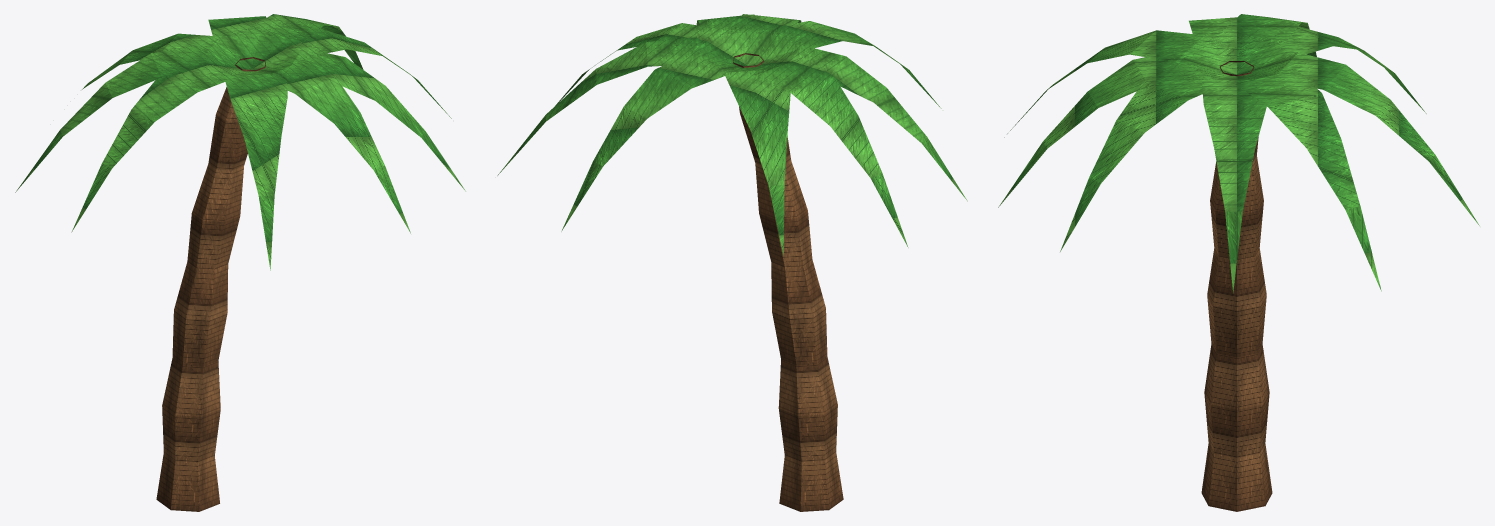
The model's file is palmera.glb.
3 renders of one model, left to right at view 1: azimuth 30°, elevation 25°; view 2: azimuth 150°, elevation 25°; view 3: azimuth 270°, elevation 25°, orthographic. The views are drawn at different scales.
Visible parts, largest first — view 1: Palmera_cuerpo; view 2: Palmera_cuerpo; view 3: Palmera_cuerpo.
Boxes of the visible parts, box(x1,y1,x2,y2) form: Palmera_cuerpo: box(15, 14, 465, 511); Palmera_cuerpo: box(497, 14, 967, 511); Palmera_cuerpo: box(998, 14, 1479, 511).
Size of the model in its own units: 7.01 by 7.16 by 6.64.
Materials: 3 (3 with a texture image).
